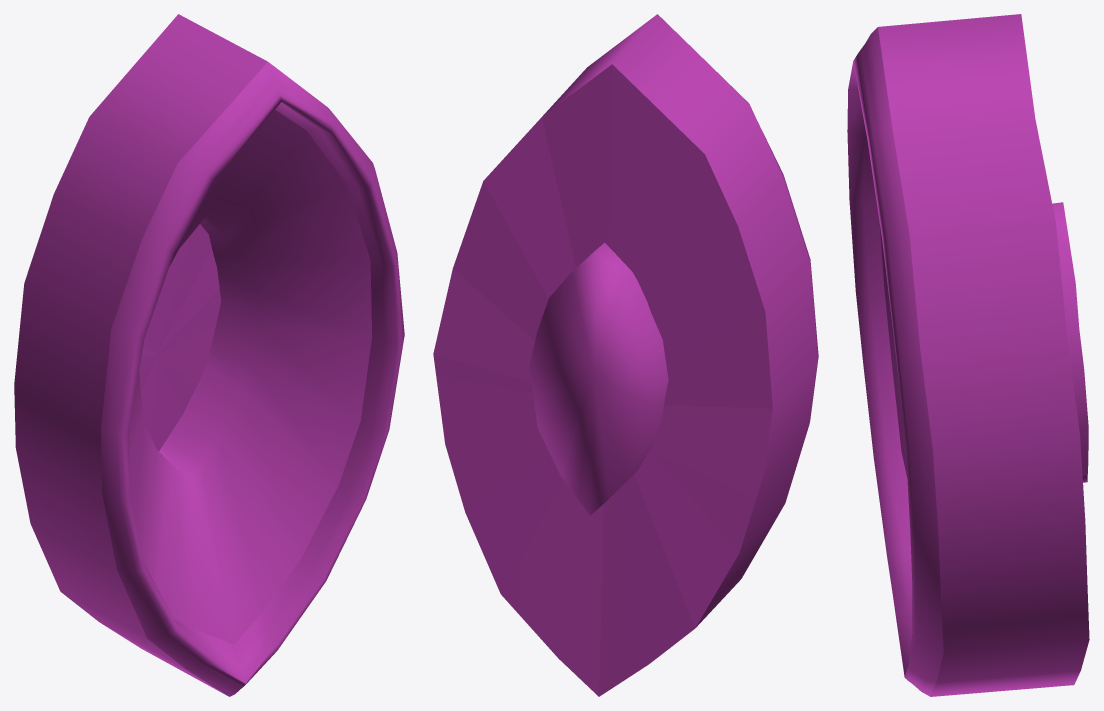
Rendered from TR1_8shapes_Marquise_Classic_Metal.001 2.glb.
3 views of the same model, side by side, from view 1: azimuth 30°, elevation 25°; view 2: azimuth 150°, elevation 25°; view 3: azimuth 270°, elevation 25° (orthographic). The views are drawn at different scales.
Visible parts, largest first — view 1: TR1_8shapes_Marquise_Classic_Metal.001; view 2: TR1_8shapes_Marquise_Classic_Metal.001; view 3: TR1_8shapes_Marquise_Classic_Metal.001.
Part boxes in pixels (<box>): TR1_8shapes_Marquise_Classic_Metal.001: <box>14,14,404,696</box>; TR1_8shapes_Marquise_Classic_Metal.001: <box>433,14,818,696</box>; TR1_8shapes_Marquise_Classic_Metal.001: <box>847,14,1089,696</box>.
Size of the model in its own units: 0.4553 by 0.813 by 0.2626.
